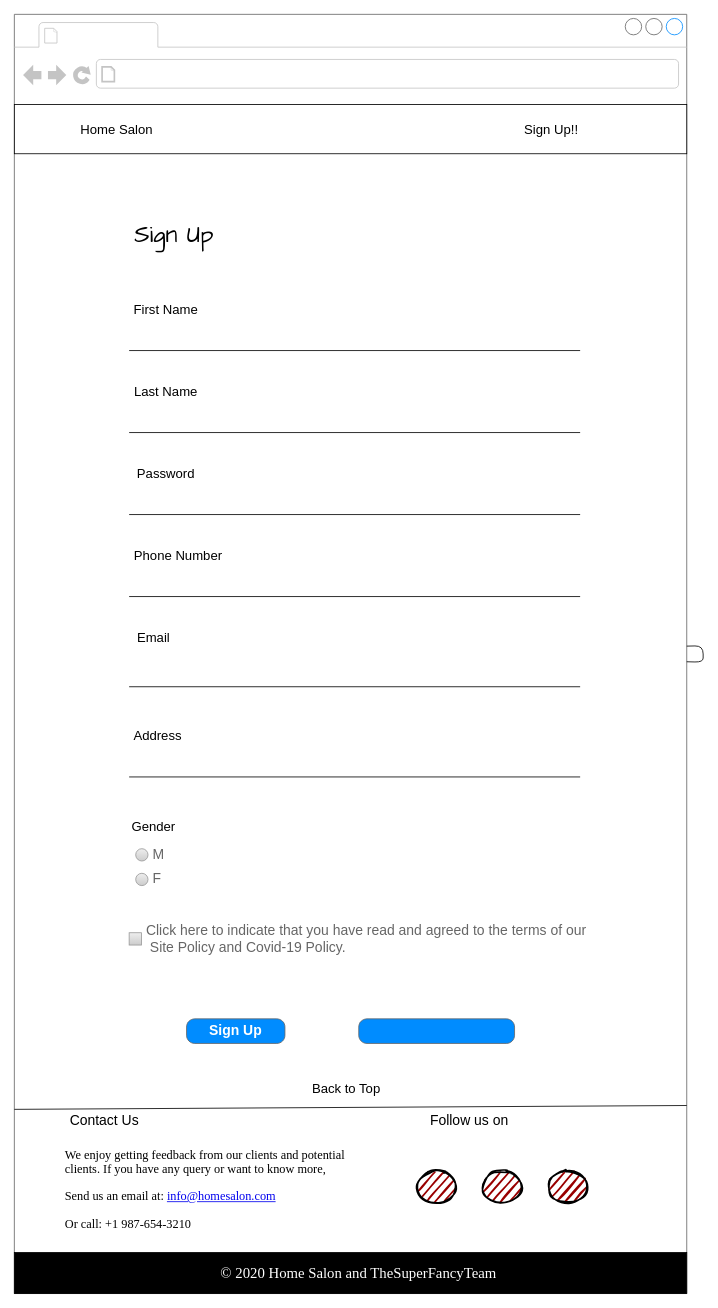
The diagram is 718 pixels wide and 1308 high, and some of its shapes have lost their labels. Here are the shapes that lost their labels. From the top down, the box of each, then its label:
(63, 23, 154, 46): The Home Salon App
(120, 63, 326, 85): https://homesalon
(358, 1018, 515, 1043): Back to home page
